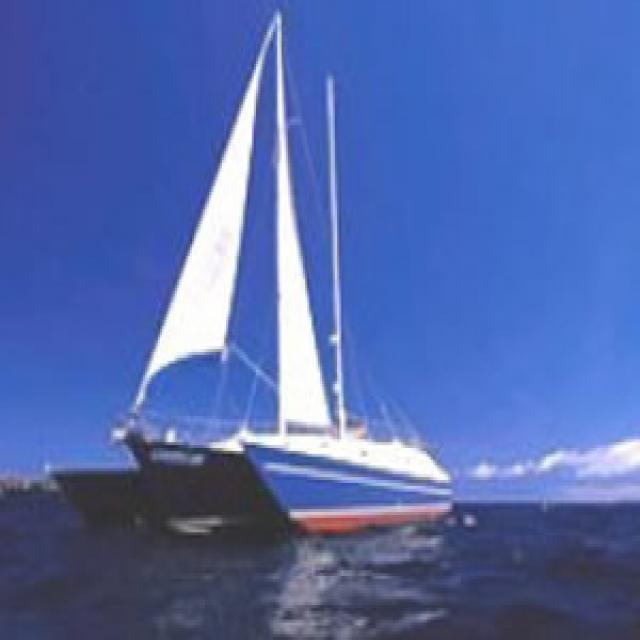Ship: (50, 18, 462, 537)
